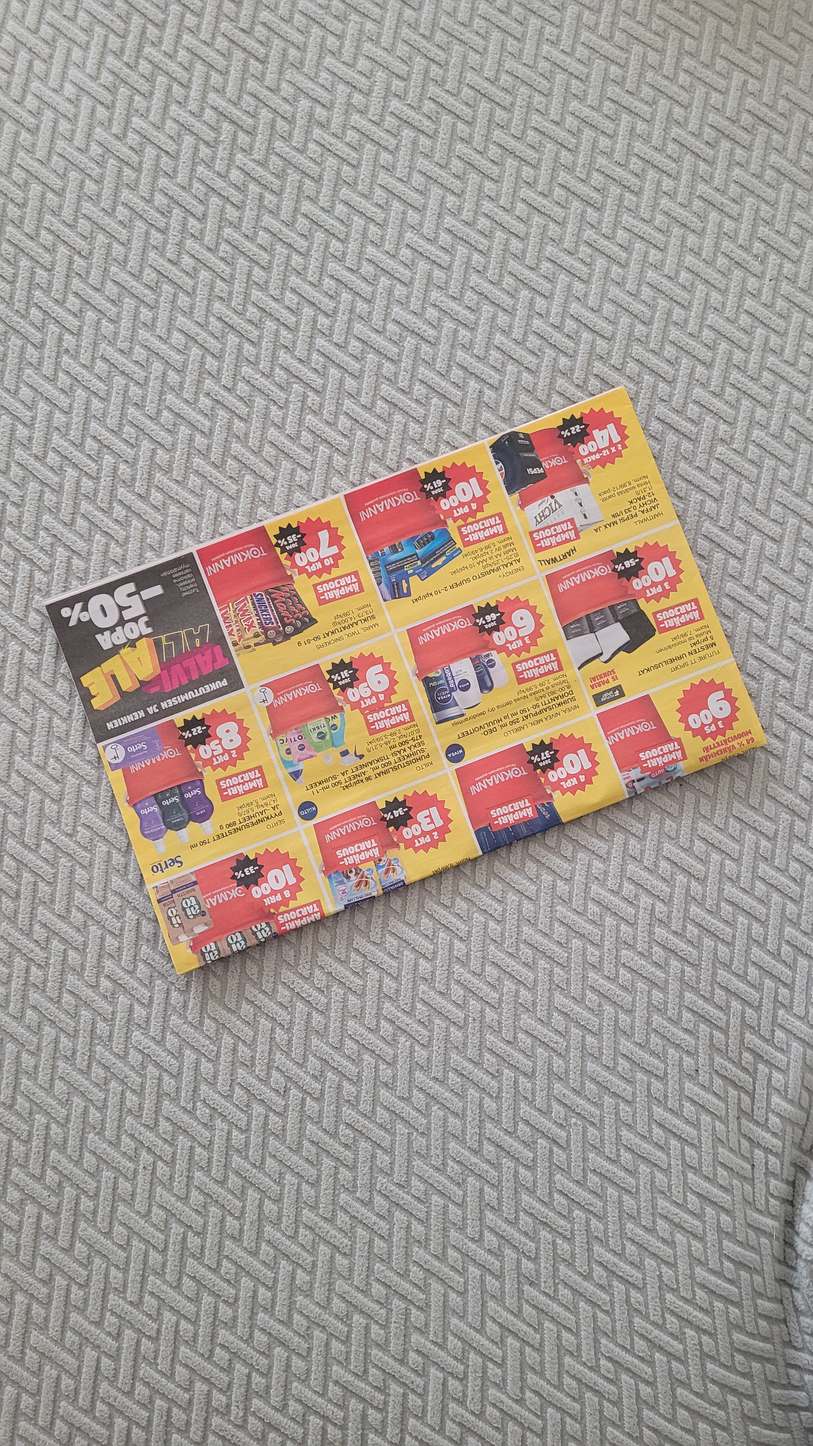paper: (39, 378, 774, 982)
